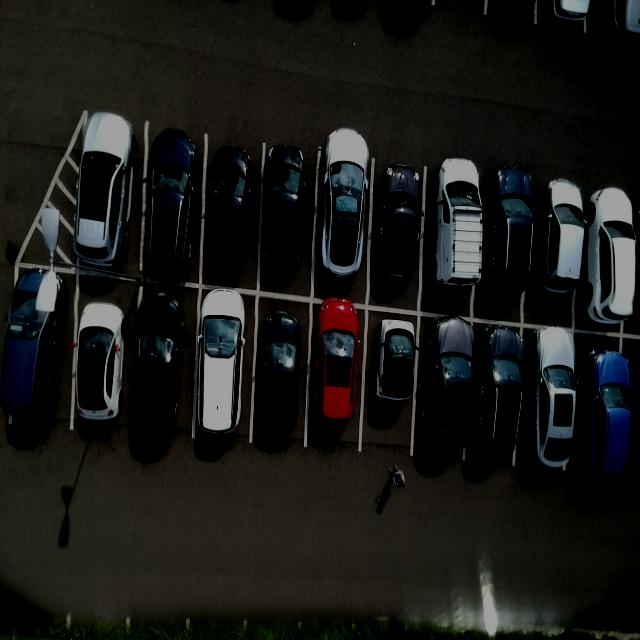car: (1, 266, 72, 427), (73, 112, 139, 270), (141, 129, 200, 283), (128, 292, 187, 443), (315, 129, 372, 278), (191, 289, 247, 439), (420, 317, 479, 456), (577, 350, 636, 481), (527, 326, 580, 470), (430, 159, 486, 294), (71, 301, 130, 429), (583, 184, 636, 323), (309, 297, 361, 429), (484, 168, 536, 300), (479, 325, 528, 459), (255, 308, 304, 440), (204, 148, 253, 276), (376, 159, 424, 285), (536, 178, 585, 299), (263, 145, 309, 270), (370, 318, 420, 405)
